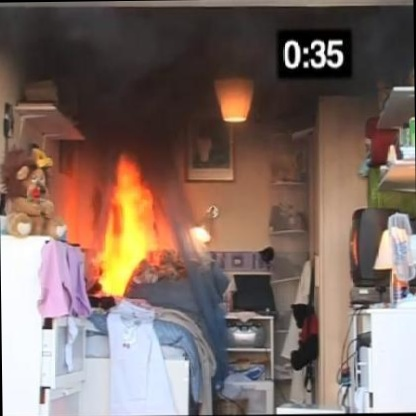fire: (63, 151, 172, 295)
